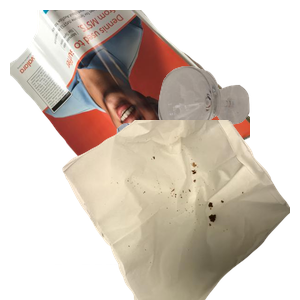glass: (156, 64, 300, 194)
paper: (10, 10, 250, 190)
plastic: (55, 120, 284, 300)
trash: (60, 120, 300, 300)
